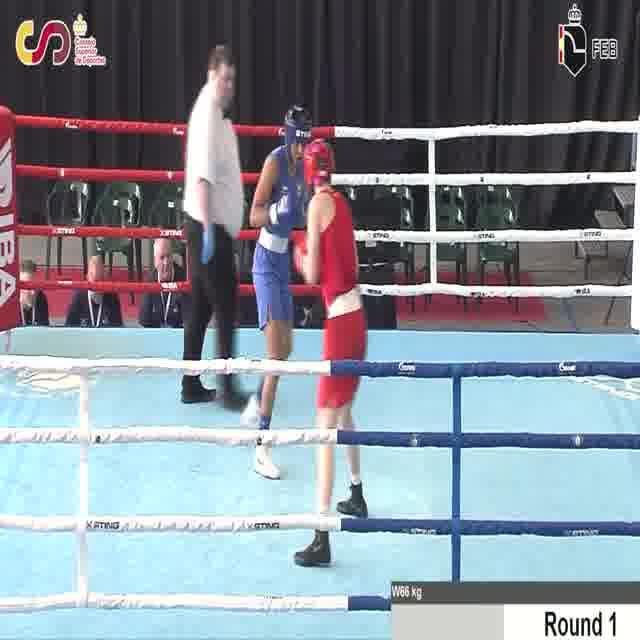blue-player: (235, 105, 314, 485)
red-player: (287, 133, 370, 570)
referee: (177, 38, 255, 411)
